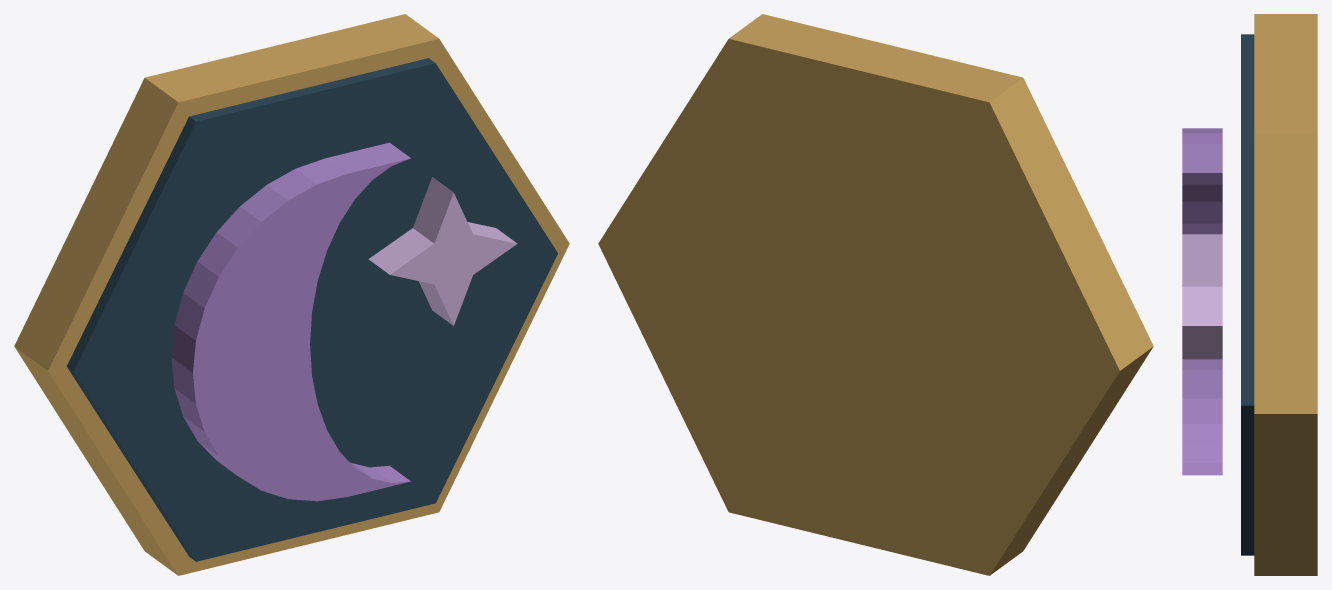
Rendered from dark.fbx.
3 views of the same model, side by side, from view 1: azimuth 30°, elevation 25°; view 2: azimuth 150°, elevation 25°; view 3: azimuth 270°, elevation 25° (orthographic). The views are drawn at different scales.
Visible parts, largest first — view 1: dark; view 2: dark; view 3: dark.
Part boxes in pixels (box(x1,y1,x2,y2)): dark: box(14, 14, 569, 575); dark: box(598, 14, 1153, 575); dark: box(1182, 14, 1317, 575).
Size of the model in its own units: 0.98 by 0.85 by 0.235.
